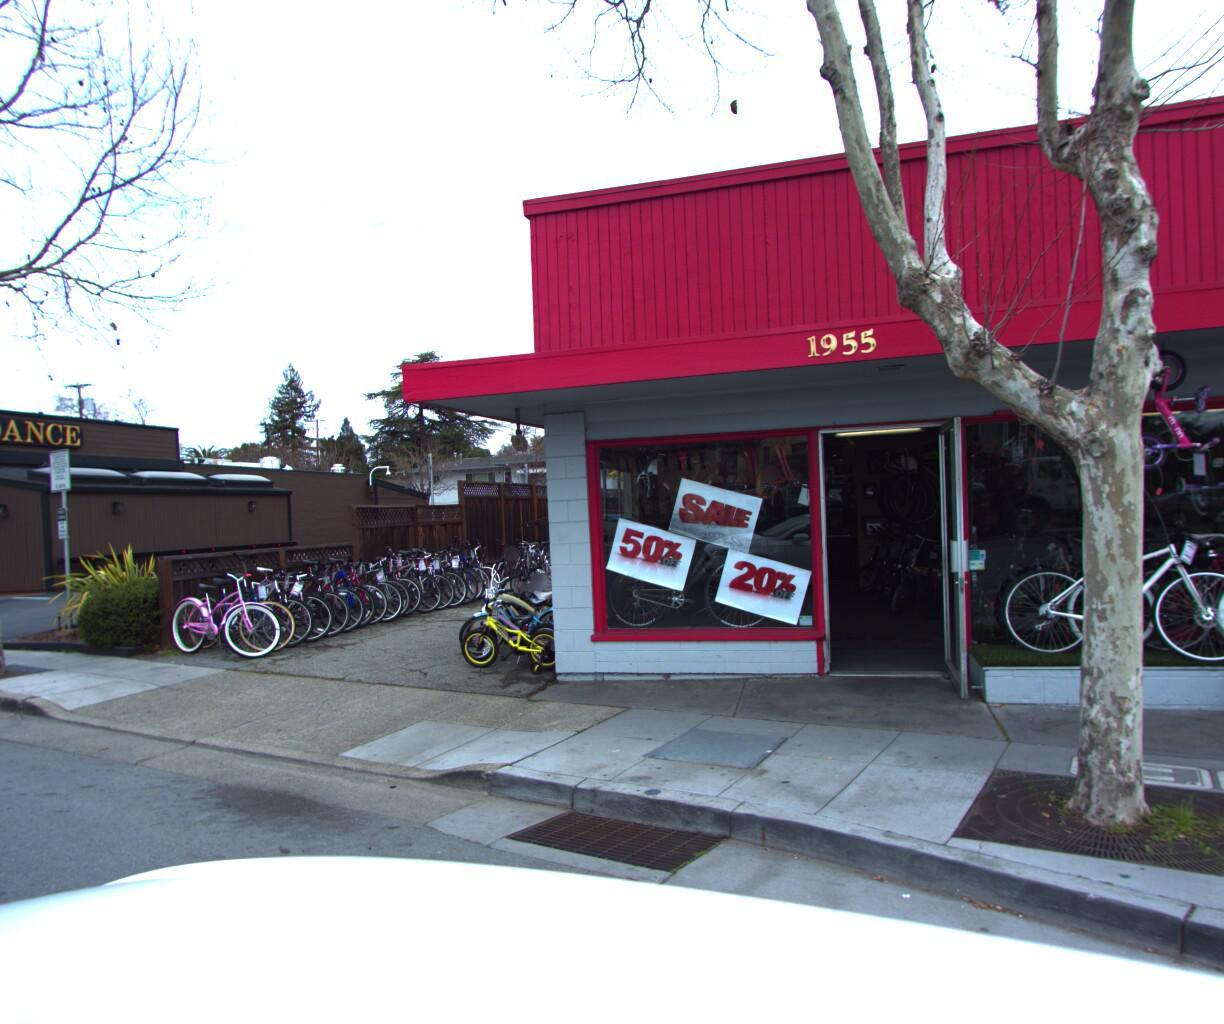bicycle: (1002, 509, 1224, 669), (1116, 505, 1224, 673), (181, 550, 303, 652), (476, 551, 596, 653), (205, 546, 325, 645), (500, 538, 618, 637), (462, 564, 584, 659), (448, 576, 574, 665), (507, 543, 623, 633), (496, 550, 609, 642), (486, 559, 602, 647), (447, 588, 564, 673), (511, 547, 624, 628), (230, 557, 342, 639), (244, 555, 356, 635), (260, 553, 370, 630), (279, 551, 385, 626), (295, 549, 397, 622), (306, 547, 409, 618), (322, 545, 421, 615), (336, 544, 434, 611), (354, 542, 447, 608), (367, 541, 460, 605), (380, 539, 471, 603), (388, 538, 480, 600), (399, 536, 489, 597), (1200, 502, 1224, 672), (490, 529, 540, 596), (531, 528, 577, 595), (511, 529, 558, 595)
